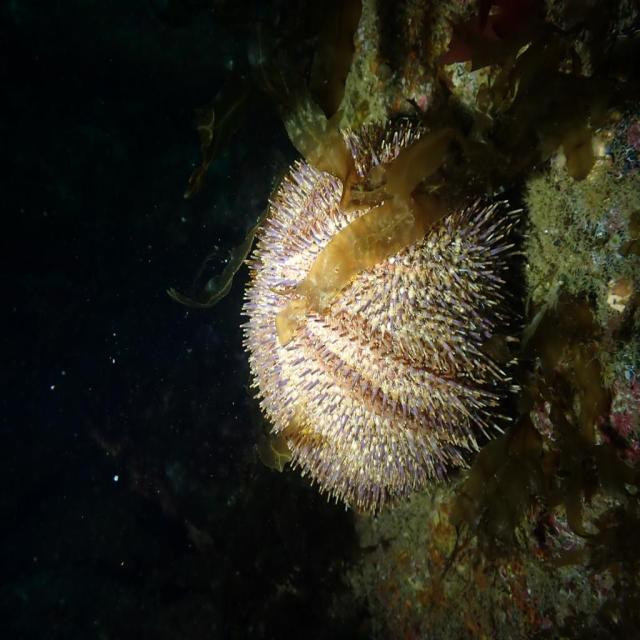Deniz Kestanesi: (239, 120, 522, 515)
